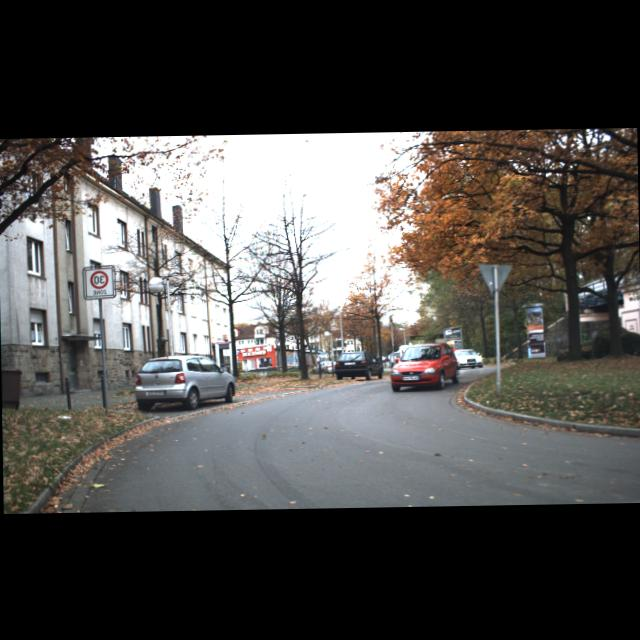prohibitory: (90, 270, 108, 288)
